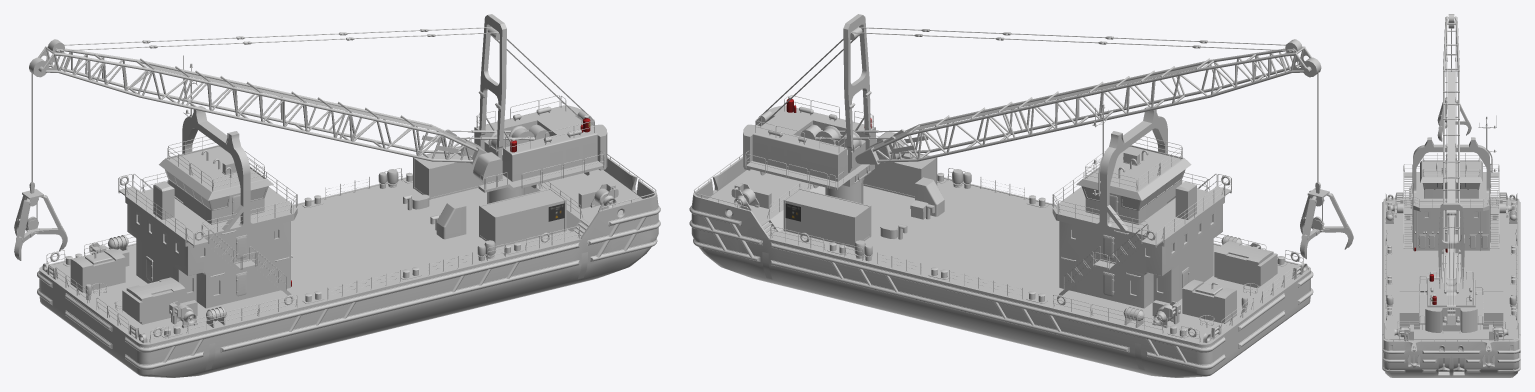
The model's file is craneBargeFix1.fbx.
3 views of the same model, side by side, from view 1: azimuth 30°, elevation 25°; view 2: azimuth 150°, elevation 25°; view 3: azimuth 270°, elevation 25° (orthographic). The views are drawn at different scales.
Parts seen in each view (by area): view 1: craneBarge_body, craneBarge_booth, craneBarge_crane, craneBarge_container_02, craneBarge_container_01; view 2: craneBarge_body, craneBarge_booth, craneBarge_crane, craneBarge_container_01, craneBarge_container_02; view 3: craneBarge_body, craneBarge_booth, craneBarge_crane, craneBarge_container_01, craneBarge_container_02.
Boxes of the visible parts, box(x1,y1,x2,y2) form: craneBarge_body: box(37, 156, 660, 377); craneBarge_booth: box(42, 55, 656, 342); craneBarge_crane: box(14, 14, 607, 260); craneBarge_container_02: box(479, 188, 566, 248); craneBarge_container_01: box(413, 146, 485, 199); craneBarge_body: box(689, 156, 1313, 377); craneBarge_booth: box(694, 104, 1307, 342); craneBarge_crane: box(743, 14, 1353, 259); craneBarge_container_01: box(783, 188, 871, 248); craneBarge_container_02: box(863, 153, 937, 198); craneBarge_body: box(1382, 197, 1520, 377); craneBarge_booth: box(1384, 115, 1518, 341); craneBarge_crane: box(1419, 14, 1483, 332); craneBarge_container_01: box(1483, 290, 1503, 329); craneBarge_container_02: box(1399, 290, 1419, 329).
Bounding box in the file's own units: 6392 × 3263 × 1990.
